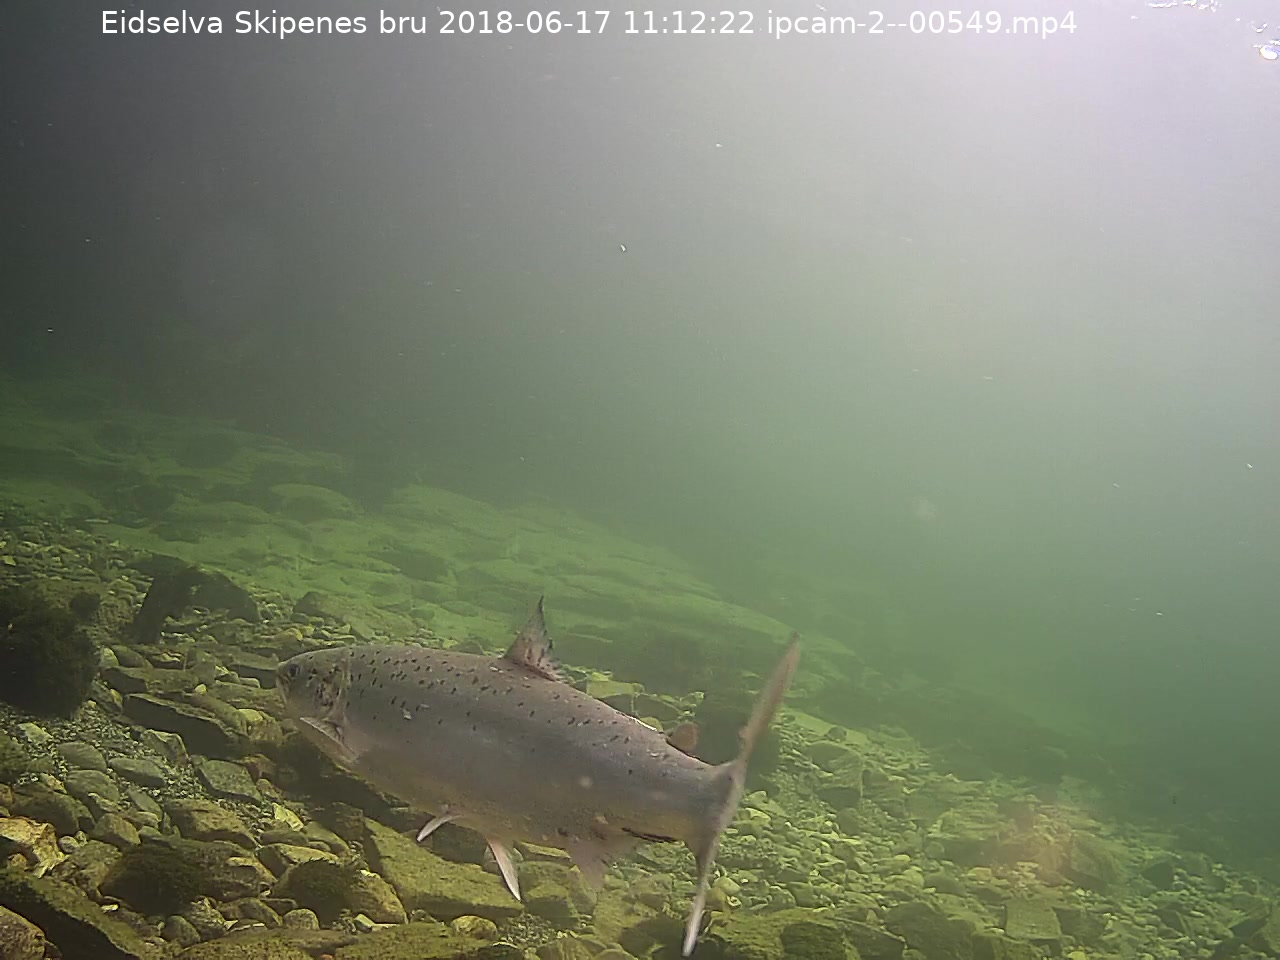salmon: (265, 589, 819, 960)
